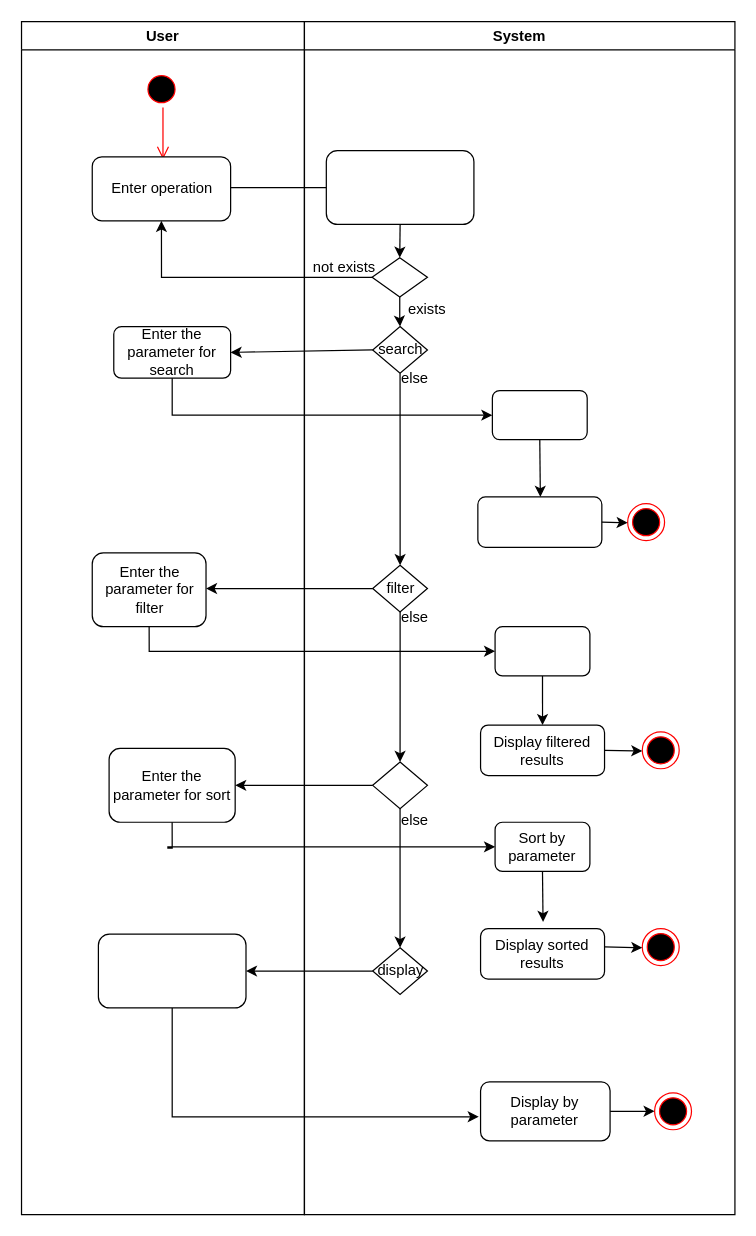
The diagram is 756 pixels wide and 1236 high, and some of its shapes have lost their labels. The shapes that lost their labels are listed below. From the top down, each one's centre as x and y in pixels, then its label:
(x=399, y=186): Check the operation does exist
(x=539, y=414): Search by parameter
(x=539, y=521): Display search results
(x=542, y=650): Filter by parameter
(x=399, y=785): sort
(x=171, y=970): Enter the parameter for display
